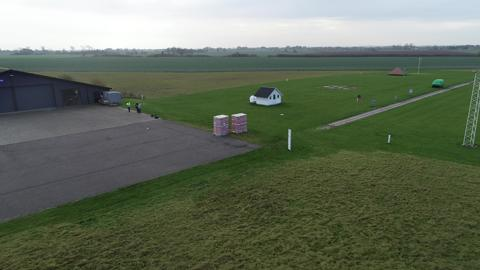RockwoolPallet: (232, 112, 247, 133)
